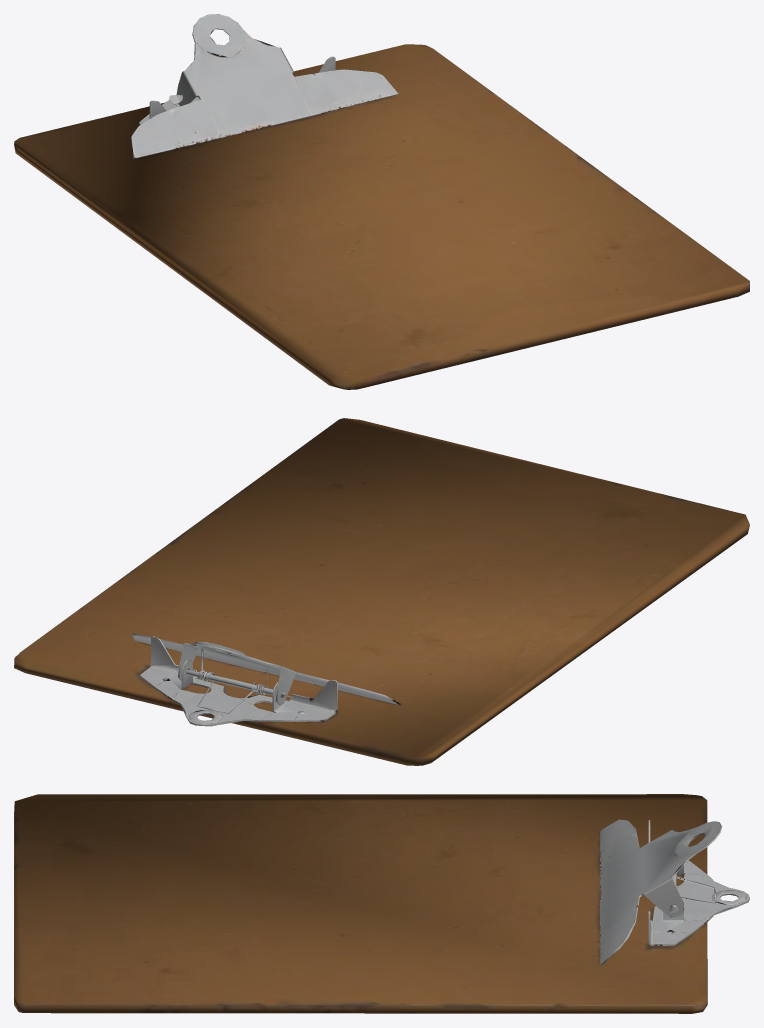
File: clipboard.glb
The picture shows the model from 3 angles, top to bottom: view 1: azimuth 30°, elevation 25°; view 2: azimuth 150°, elevation 25°; view 3: azimuth 270°, elevation 25°; orthographic projection. The views are drawn at different scales.
Visible parts, largest first — view 1: clipboard; view 2: clipboard; view 3: clipboard.
Boxes of the visible parts, x1,y1,x2,y2 form: clipboard: [14, 14, 749, 389]; clipboard: [14, 418, 749, 765]; clipboard: [14, 794, 749, 1013].
Size of the model in its own units: 0.2279 by 0.0417 by 0.3362.
Materials: 1 (1 with a texture image).
